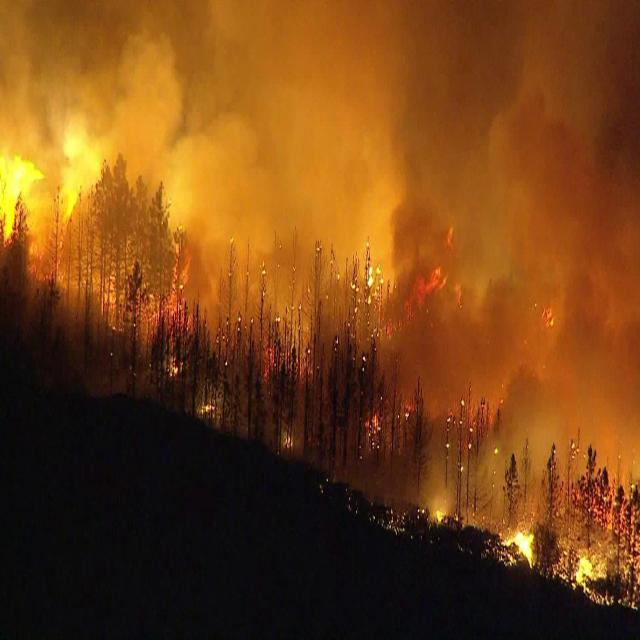Smoke: (2, 2, 640, 613)
